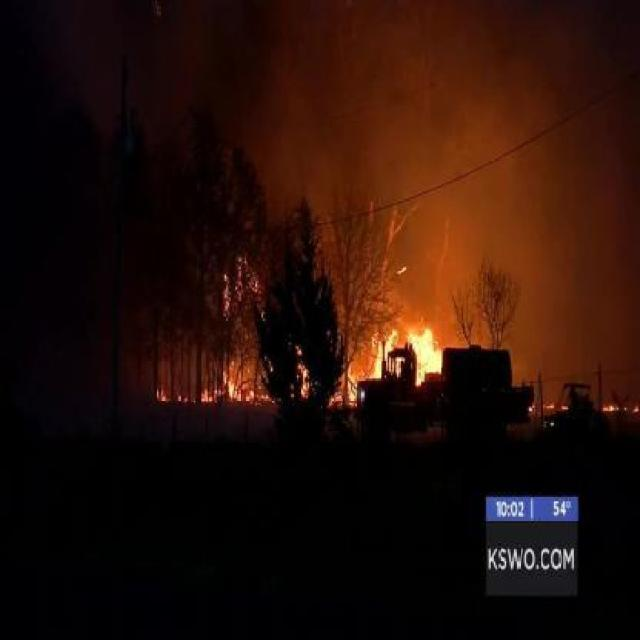Fire: (407, 322, 442, 386), (366, 326, 404, 380), (346, 362, 360, 406), (223, 372, 242, 399), (246, 385, 274, 403), (202, 383, 222, 403), (602, 398, 620, 414), (155, 388, 171, 402), (630, 400, 638, 414), (546, 401, 554, 412)
